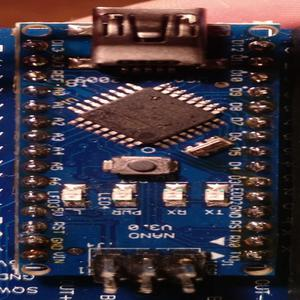duino: (2, 12, 282, 300)
